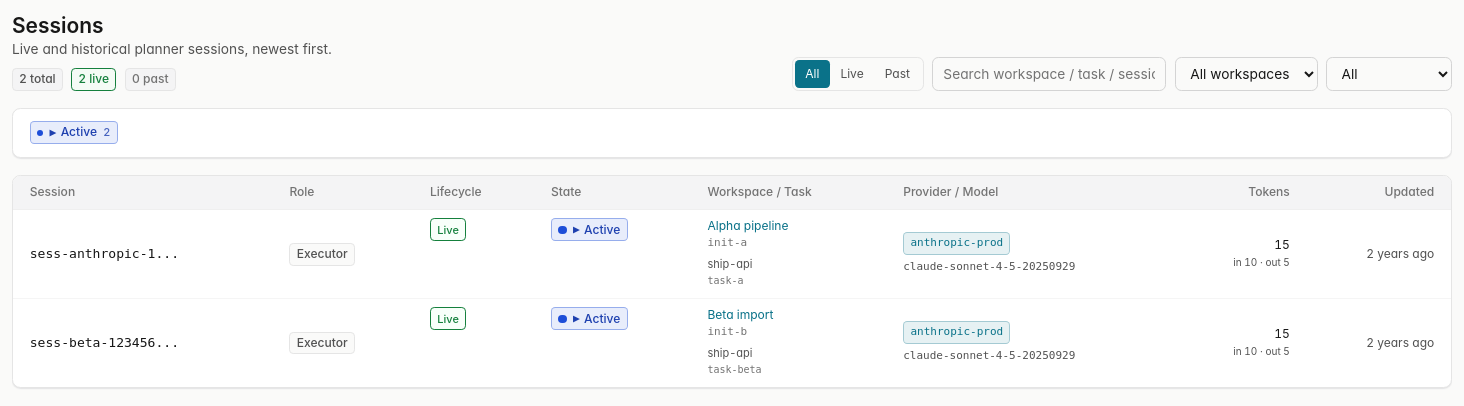
it: <SessionsPage> › filters sessions by workspace name
Expected: the text "sess-anthropic-1..." is shown, [30, 246, 179, 261]
Expected: the text "sess-beta-123456..." is shown, [30, 335, 179, 350]
Select "Beta import" in the 1st dropdown showing "All workspaces": (1246, 74) [1175, 57, 1318, 91]
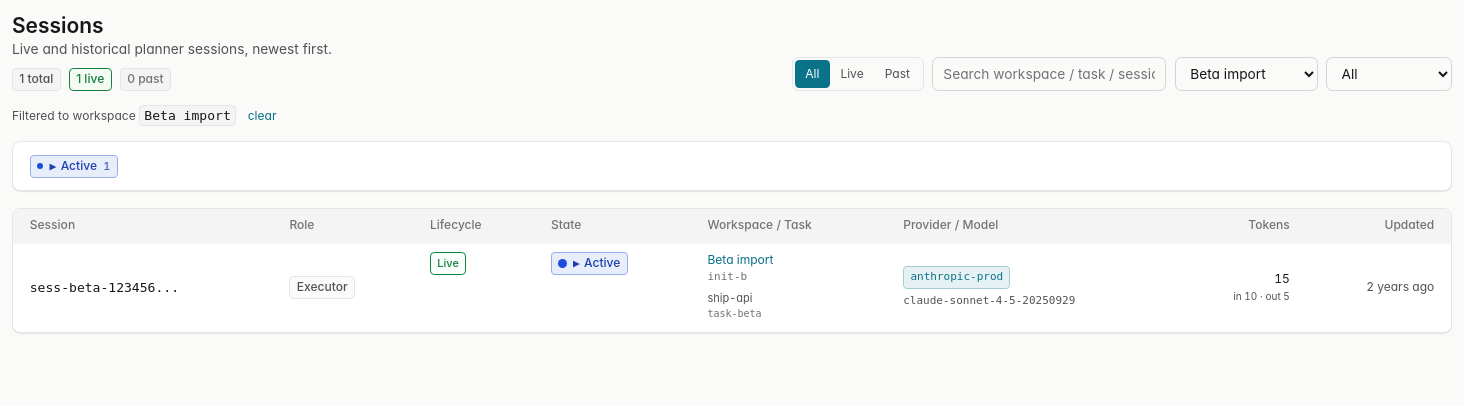
Expected: the text "sess-beta-123456..." is shown, [30, 280, 179, 295]
Result: the link "sess-anthropic-1..." is gone
